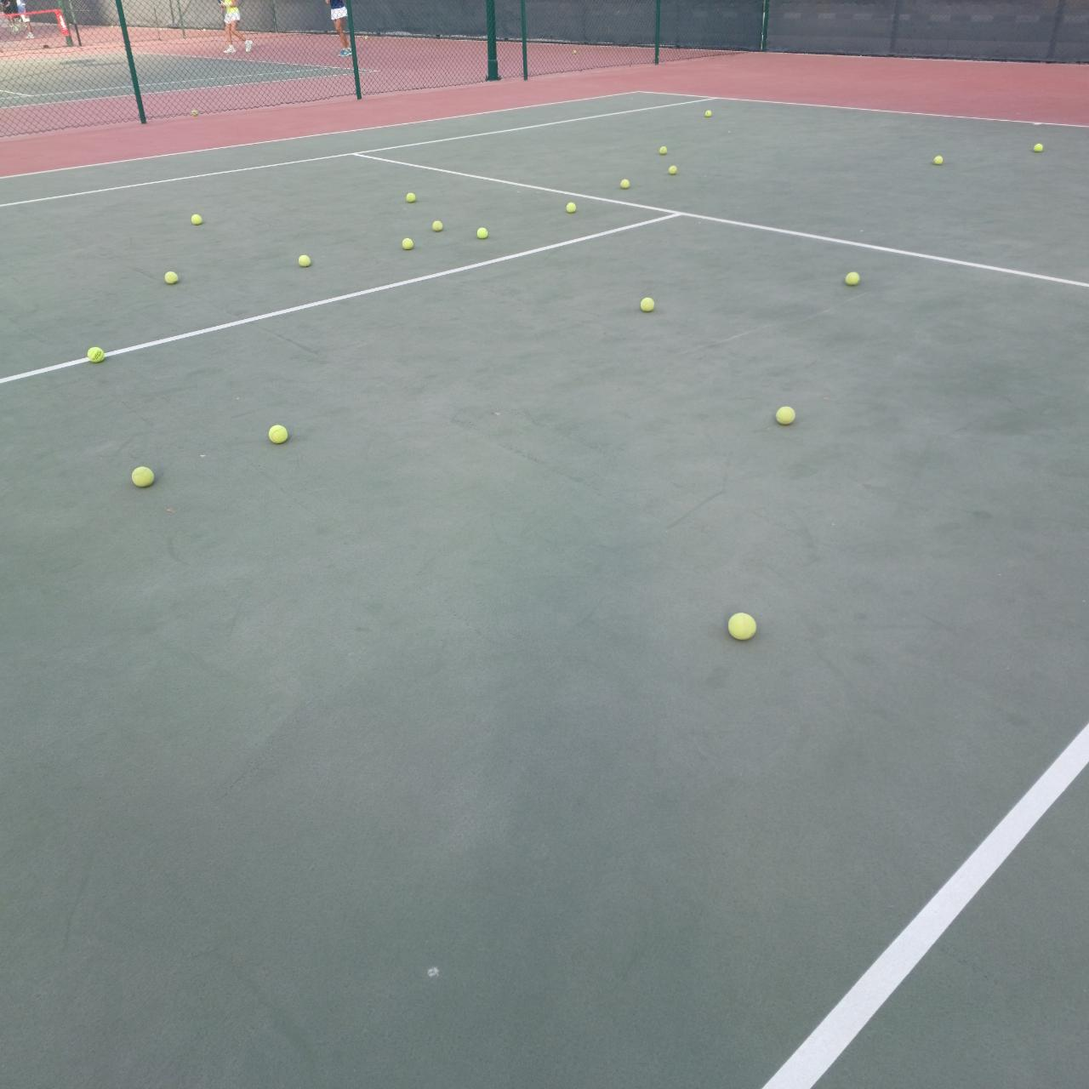tennis-ball: (726, 610, 756, 641), (131, 465, 155, 487), (268, 424, 288, 443), (775, 406, 795, 425), (87, 346, 104, 363), (638, 294, 654, 312), (845, 271, 859, 285), (165, 271, 178, 285), (298, 254, 311, 267), (402, 238, 414, 250), (191, 214, 202, 225), (477, 228, 488, 239), (566, 202, 576, 214), (433, 221, 443, 232), (406, 192, 416, 202), (620, 180, 630, 189), (934, 155, 943, 165), (659, 146, 668, 155), (668, 166, 677, 174), (1034, 144, 1043, 152), (705, 110, 712, 117)
